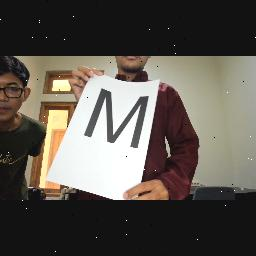m: (82, 85, 152, 155)
